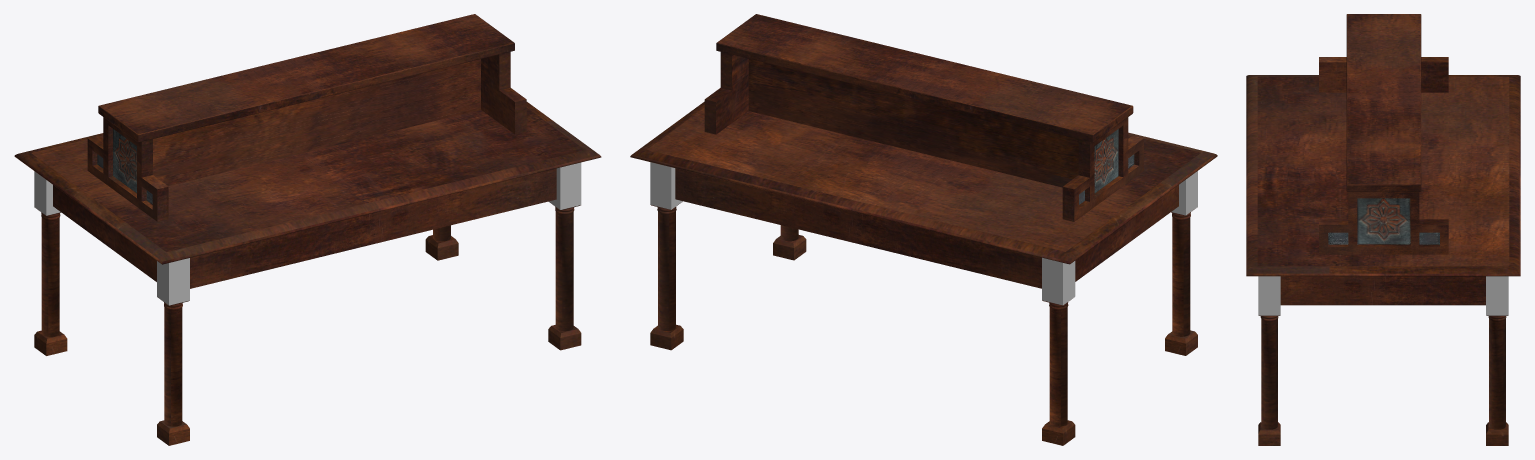
File: mesa_lateral_biblioteca.fbx
The picture shows the model from 3 angles, left to right: view 1: azimuth 30°, elevation 25°; view 2: azimuth 150°, elevation 25°; view 3: azimuth 270°, elevation 25°; orthographic projection. The views are drawn at different scales.
Parts seen in each view (by area): view 1: mesa_lateral_biblioteca; view 2: mesa_lateral_biblioteca; view 3: mesa_lateral_biblioteca.
Part boxes in pixels (x1=…): mesa_lateral_biblioteca: x1=14, y1=14, x2=601, y2=445; mesa_lateral_biblioteca: x1=630, y1=14, x2=1217, y2=445; mesa_lateral_biblioteca: x1=1246, y1=14, x2=1520, y2=445.
Size of the model in its own units: 1139 by 674 by 663.
